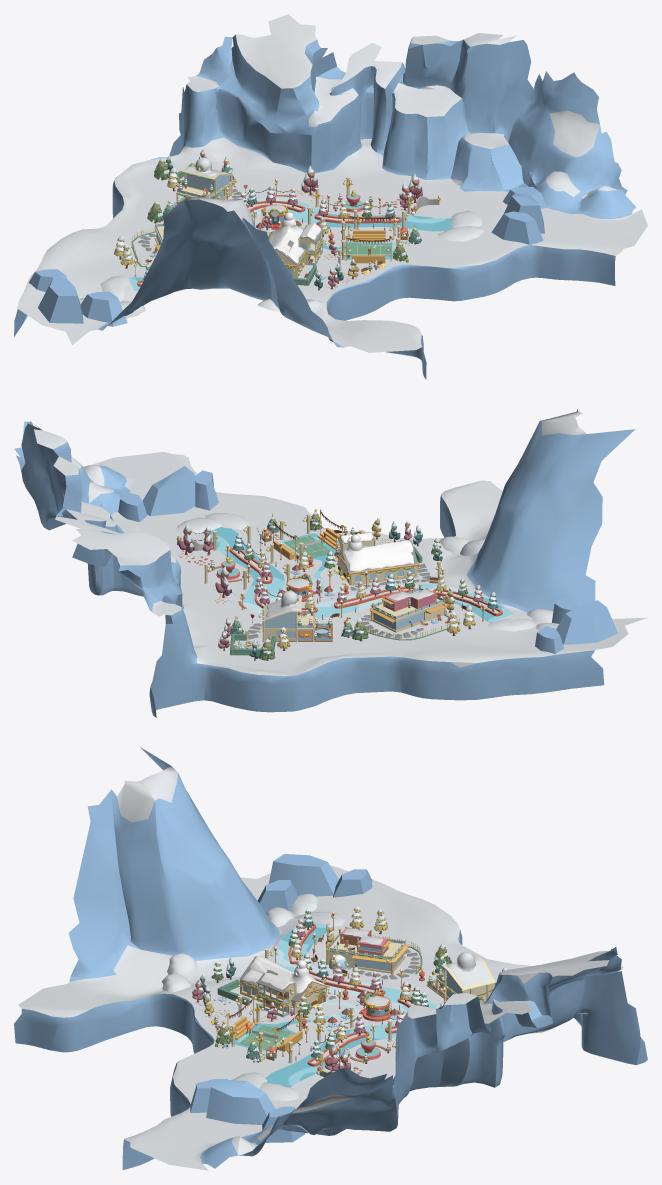
The model's file is Individual_BeverlyChills_Christmas_02.fbx.
3 views of the same model, one above another, from view 1: azimuth 30°, elevation 25°; view 2: azimuth 150°, elevation 25°; view 3: azimuth 270°, elevation 25° (orthographic). The views are drawn at different scales.
Parts seen in each view (by area): view 1: pasted__BeverlyChillsRoad_01, pasted__polySurface154, pasted__Object_IceRock4, pasted__Building_LuxuryHouse2Story1, pasted__Object_IceRock8, pasted__Object_IceRock3, pasted__Object_RoadIslands, pasted__polySurface367, pasted__Object_IceRock6, pasted__Building_TennisCourt2, pasted__SnowPatch6; view 2: pasted__BeverlyChillsRoad_01, pasted__polySurface154, pasted__Building_LuxuryHouse2Story1, pasted__Building_LuxuryHouse3, pasted__Object_IceRock4, pasted__Object_IceRock6, pasted__Object_RoadIslands, pasted__polySurface367, pasted__Object_IceRock8, pasted__Object_IceRock7, pasted__Object_IceRock5, pasted__Building_TennisCourt2 (+3 smaller); view 3: pasted__BeverlyChillsRoad_01, pasted__polySurface154, pasted__Object_IceRock6, pasted__Object_IceRock4, pasted__Building_LuxuryHouse3, pasted__Building_LuxuryHouse2Story1, pasted__polySurface367, pasted__Object_RoadIslands, pasted__Object_IceRock3, pasted__Object_IceRock5, pasted__Object_IceRock7, pasted__Building_RoundCoffeeShop1 (+1 smaller).
Part boxes in pixels (x1,y1,x2,y2): pasted__BeverlyChillsRoad_01: (14,14,647,379); pasted__polySurface154: (267,212,323,277); pasted__Object_IceRock4: (38,277,83,323); pasted__Building_LuxuryHouse2Story1: (172,157,230,208); pasted__Object_IceRock8: (491,211,543,244); pasted__Object_IceRock3: (80,291,127,326); pasted__Object_RoadIslands: (137,201,401,286); pasted__polySurface367: (134,163,440,276); pasted__Object_IceRock6: (504,192,544,233); pasted__Building_TennisCourt2: (346,243,391,256); pasted__SnowPatch6: (437,226,484,241); pasted__BeverlyChillsRoad_01: (14,409,647,717); pasted__polySurface154: (336,533,418,585); pasted__Building_LuxuryHouse2Story1: (263,590,332,641); pasted__Building_LuxuryHouse3: (372,588,443,632); pasted__Object_IceRock4: (556,600,617,644); pasted__Object_IceRock6: (142,466,196,516); pasted__Object_RoadIslands: (229,547,502,616); pasted__polySurface367: (176,519,485,647); pasted__Object_IceRock8: (195,470,218,510); pasted__Object_IceRock7: (118,493,147,522); pasted__Object_IceRock5: (535,626,563,653); pasted__Building_TennisCourt2: (284,536,332,558); pasted__BeverlyChillsRoad_01: (14,747,647,1170); pasted__polySurface154: (239,956,329,1017); pasted__Object_IceRock6: (206,1079,275,1124); pasted__Object_IceRock4: (268,854,338,896); pasted__Building_LuxuryHouse3: (328,927,405,973); pasted__Building_LuxuryHouse2Story1: (426,952,495,1001); pasted__polySurface367: (230,911,485,1073); pasted__Object_RoadIslands: (288,924,415,1066); pasted__Object_IceRock3: (257,880,297,912); pasted__Object_IceRock5: (333,869,372,897); pasted__Object_IceRock7: (262,1106,304,1142); pasted__Building_RoundCoffeeShop1: (359,995,392,1021).
Size of the model in its own units: 11927 by 3384 by 10397.
